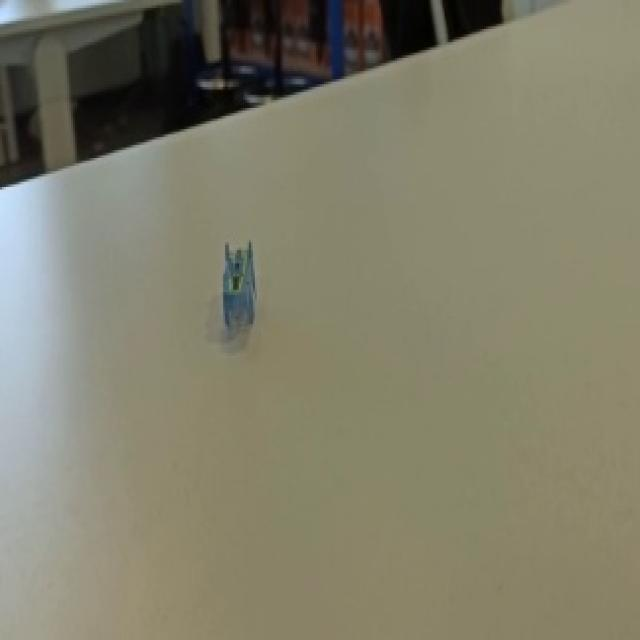3_NanoBug_Celeste: (187, 221, 300, 362)
